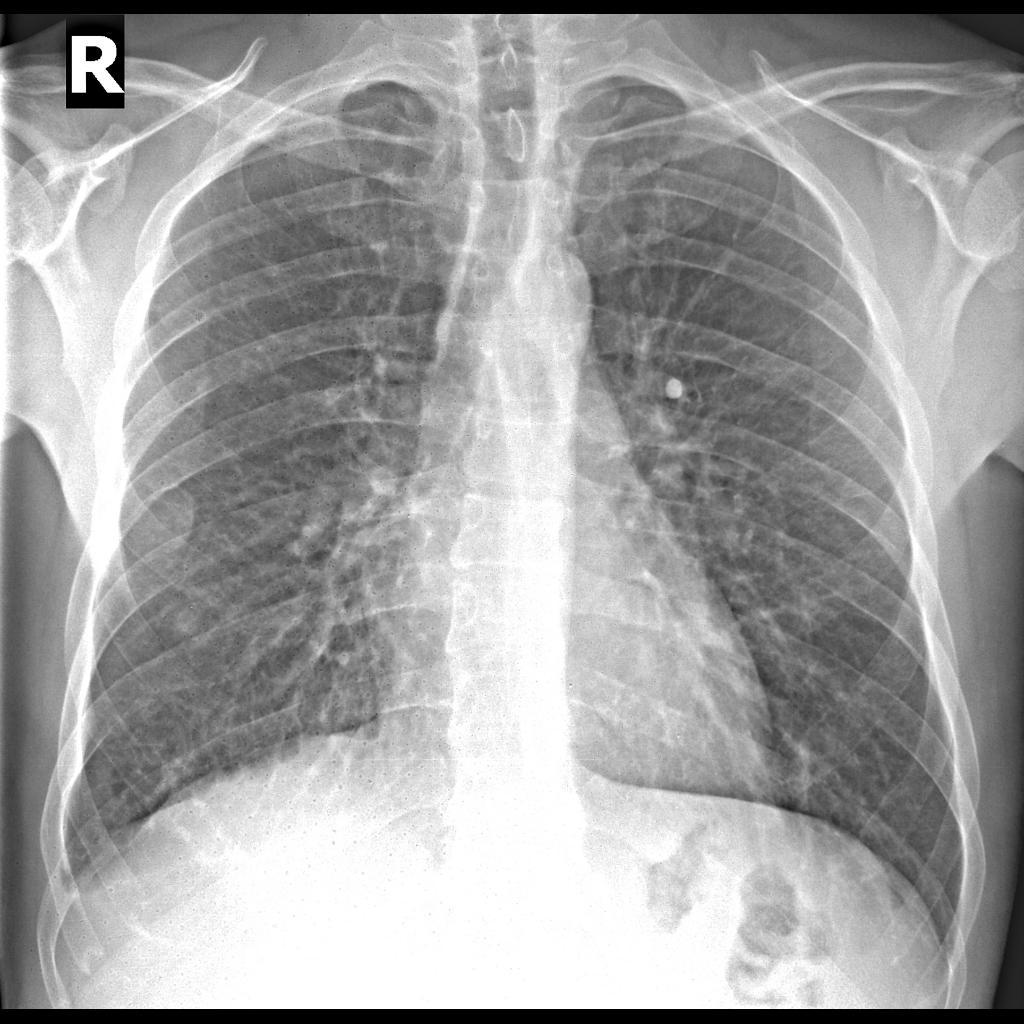Nodule: (169, 597, 210, 642)
